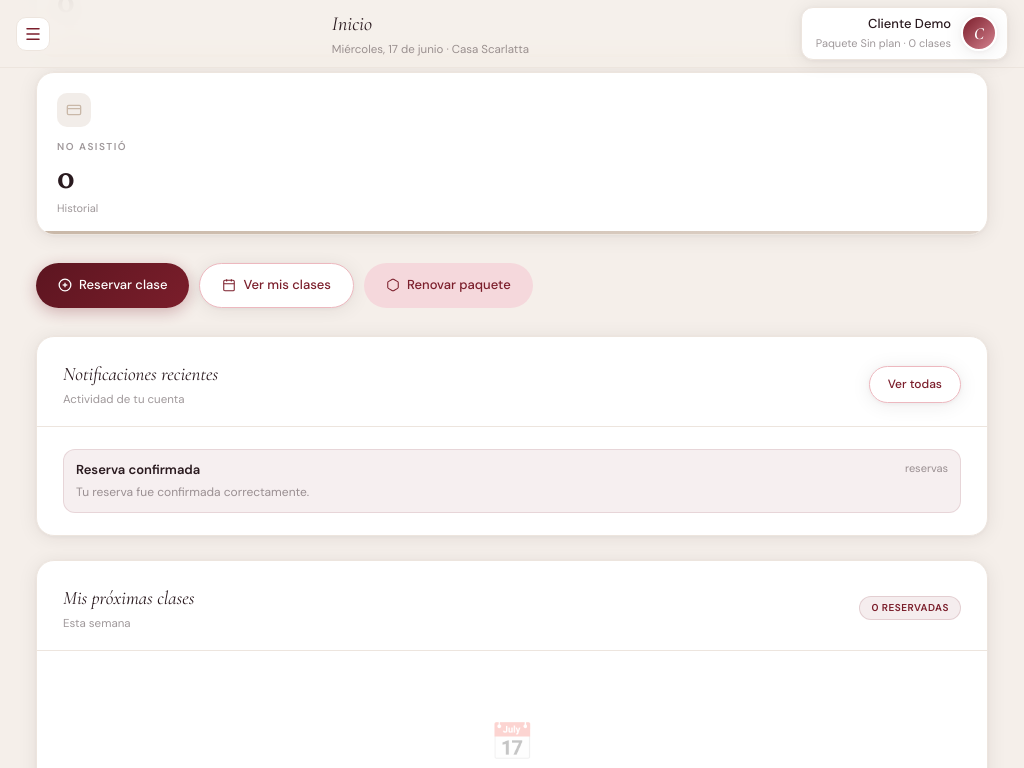
ClientPanel payments section › muestra notificaciones recientes y abre panel
(page scrolled)
Expected: the text "Notificaciones recientes" is shown, 63,359 -> 218,389
Expected: the text "Reserva confirmada" is shown, 76,460 -> 200,478
Click the button "Ver todas" at point(915, 384), box 869,366 -> 961,403
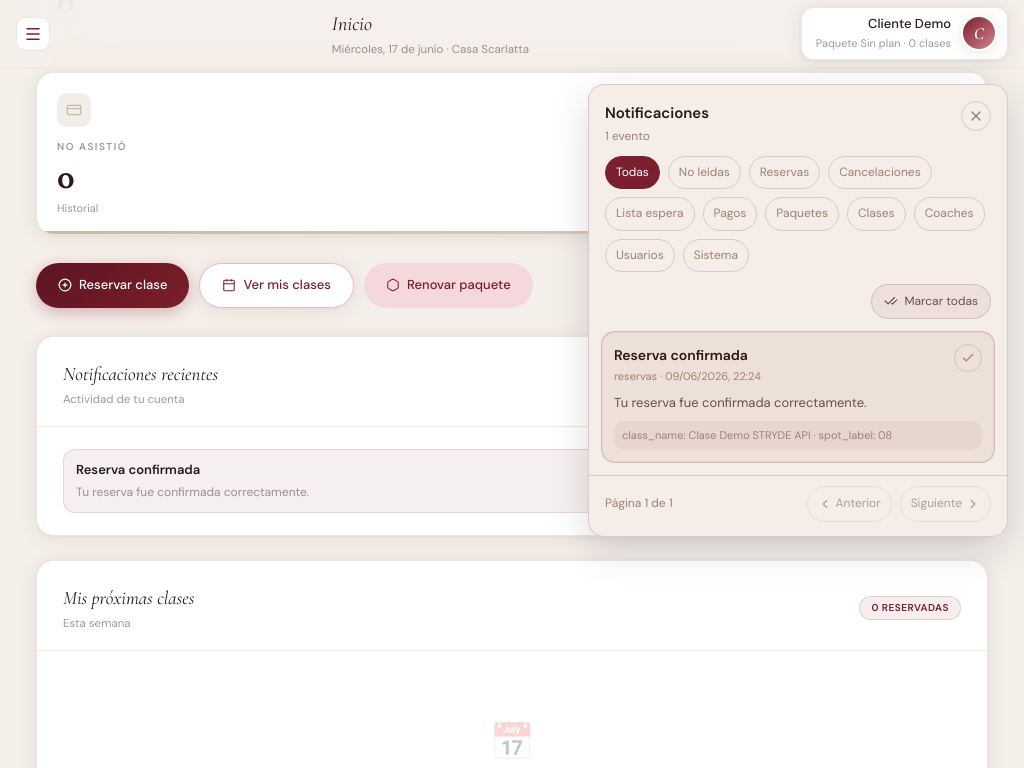
Now the dialog "Notificaciones" is shown, box 588,84 -> 1008,536
